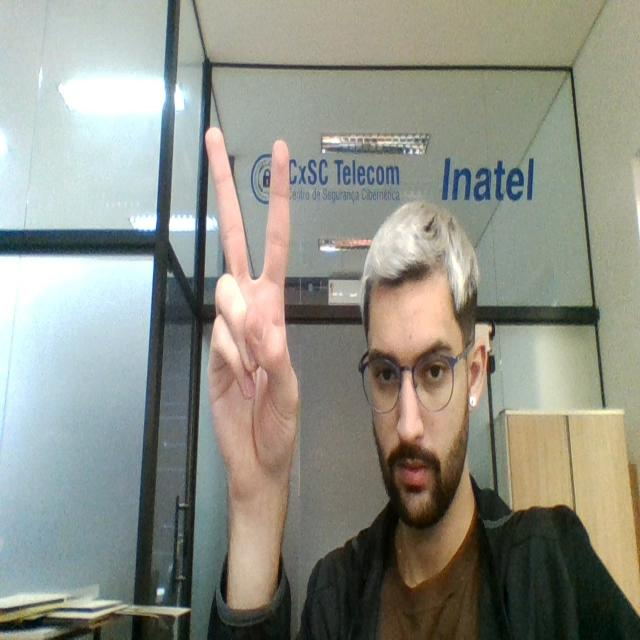V: (196, 119, 305, 528)
